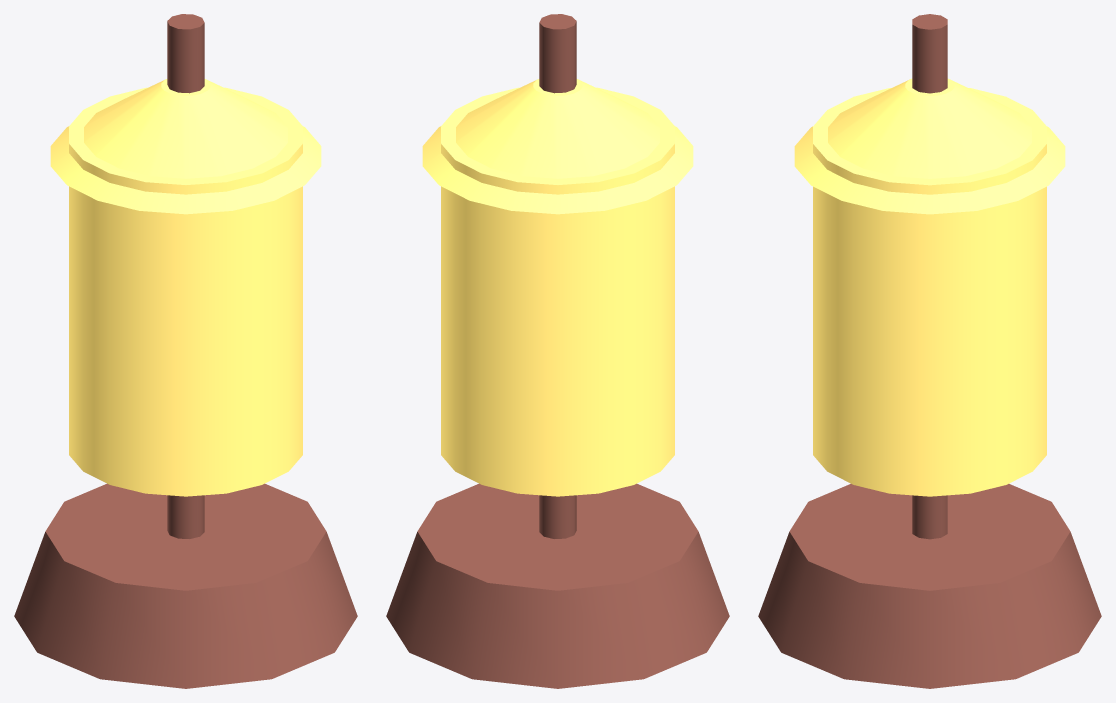
Rendered from prayer_wheel.glb.
3 renders of one model, left to right at view 1: azimuth 30°, elevation 25°; view 2: azimuth 150°, elevation 25°; view 3: azimuth 270°, elevation 25°, orthographic.
Visible parts, largest first — view 1: GoldenManiCylinder, WoodSpindleBase; view 2: GoldenManiCylinder, WoodSpindleBase; view 3: GoldenManiCylinder, WoodSpindleBase.
Boxes of the visible parts, x1=… form: GoldenManiCylinder: x1=50, y1=79, x2=321, y2=496; WoodSpindleBase: x1=14, y1=14, x2=357, y2=688; GoldenManiCylinder: x1=422, y1=79, x2=693, y2=496; WoodSpindleBase: x1=386, y1=14, x2=729, y2=688; GoldenManiCylinder: x1=794, y1=78, x2=1065, y2=496; WoodSpindleBase: x1=758, y1=14, x2=1101, y2=688.
Bounding box in the file's own units: 1.1 × 2.1 × 1.1.
